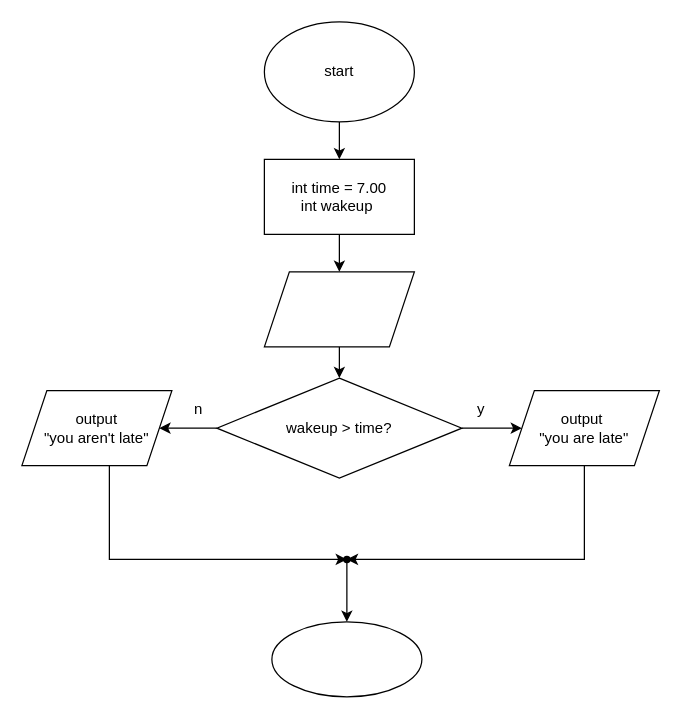
Image size: 681x719. Some labels were removed from this diagram. The box of each missing label's shape, as (x1, y1, x2, y2) in pixels:
input wakepu: (263, 271, 414, 347)
stop: (271, 621, 422, 697)
